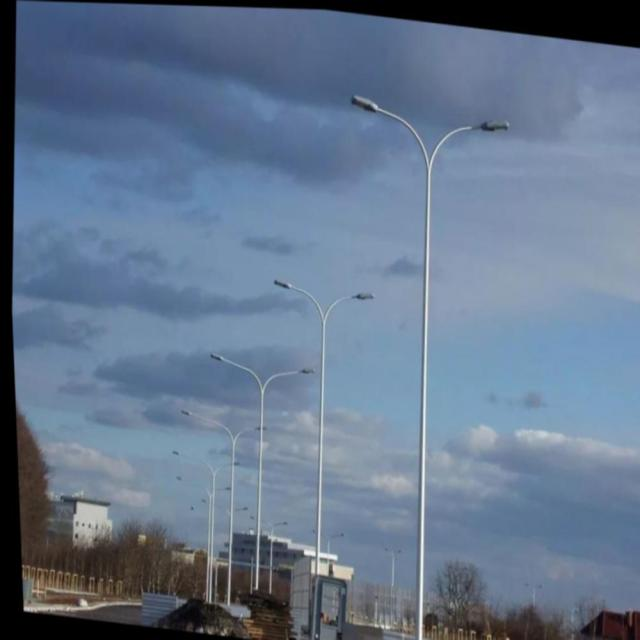pole: (414, 366, 433, 639)
